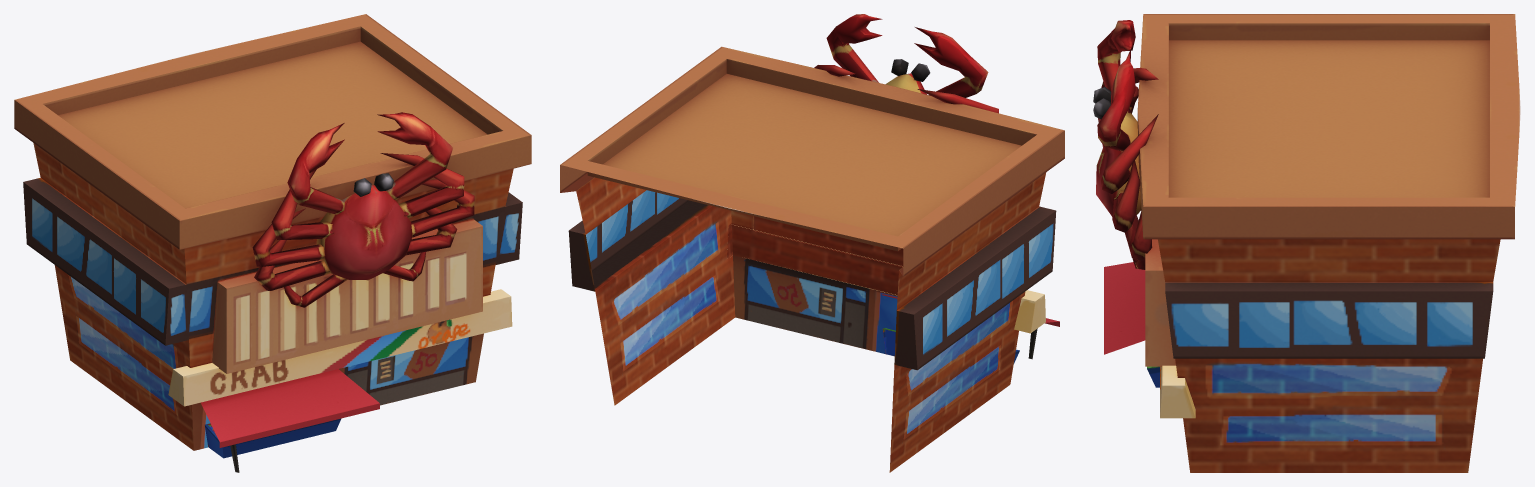
File: pk_model_haixianglou.FBX
The picture shows the model from 3 angles, left to right: view 1: azimuth 30°, elevation 25°; view 2: azimuth 150°, elevation 25°; view 3: azimuth 270°, elevation 25°; orthographic projection. The views are drawn at different scales.
Parts seen in each view (by area): view 1: pk_model_haixianglou; view 2: pk_model_haixianglou; view 3: pk_model_haixianglou.
Part boxes in pixels (<box>): pk_model_haixianglou: <box>14,14,531,472</box>; pk_model_haixianglou: <box>560,14,1064,472</box>; pk_model_haixianglou: <box>1093,14,1520,472</box>.
Bounding box in the file's own units: 1351 × 1157 × 1258.
